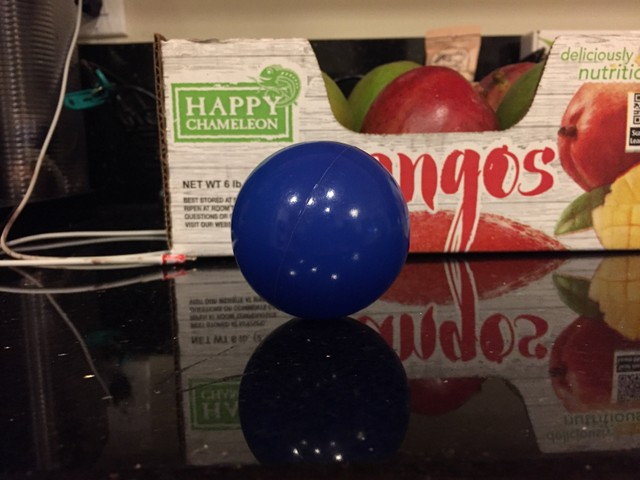Ball: (229, 141, 411, 319)
